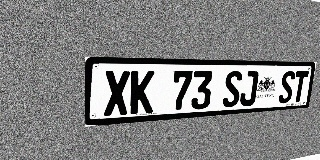3: (191, 71, 213, 110)
7: (170, 71, 193, 111)
J: (239, 71, 259, 106)
K: (130, 71, 155, 114)
S: (222, 71, 243, 108), (278, 71, 296, 104)
T: (291, 71, 309, 103)
X: (104, 71, 130, 116)
